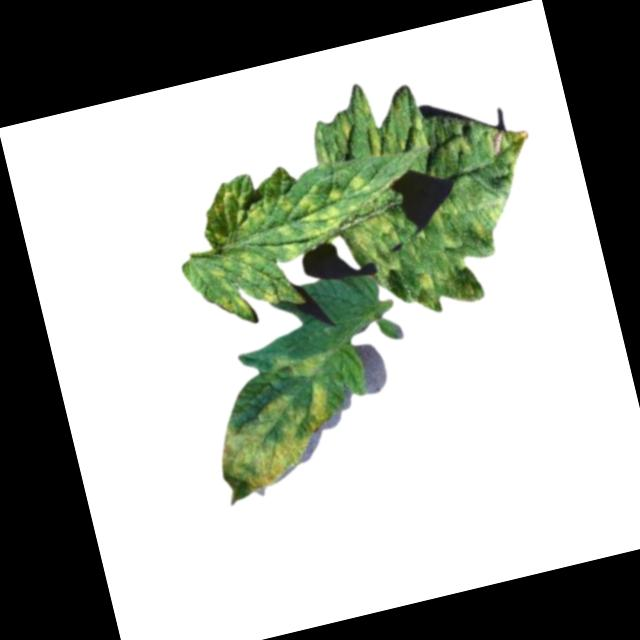Leaf_Mold: (302, 50, 563, 329), (163, 146, 396, 338), (197, 345, 359, 508)
